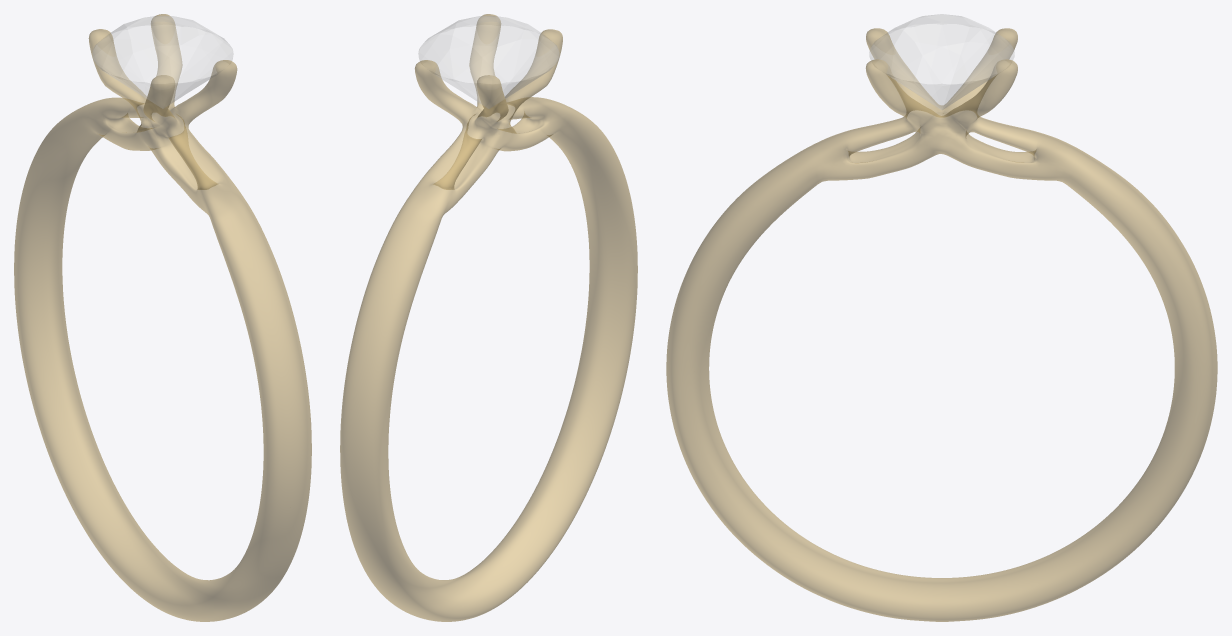
3 renders of one model, left to right at view 1: azimuth 30°, elevation 25°; view 2: azimuth 150°, elevation 25°; view 3: azimuth 270°, elevation 25°, orthographic. The views are drawn at different scales.
Parts seen in each view (by area): view 1: VR008; view 2: VR008; view 3: VR008.
Boxes of the visible parts, x1,y1,x2,y2 form: VR008: (14,14,311,621); VR008: (340,14,637,621); VR008: (666,14,1217,621).
Bounding box in the file's own units: 0.6111 × 2.73 × 2.32.
